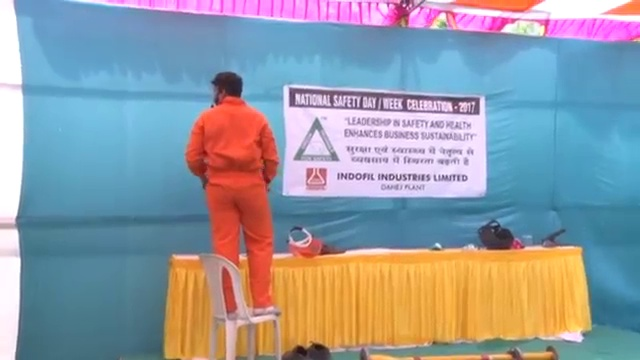helmet_off: (209, 68, 243, 108)
person: (186, 68, 284, 321)
